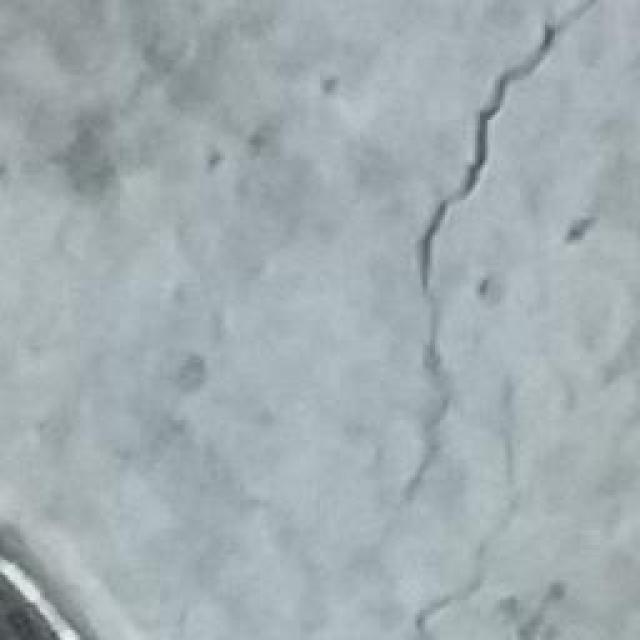Network: (391, 0, 613, 640)
